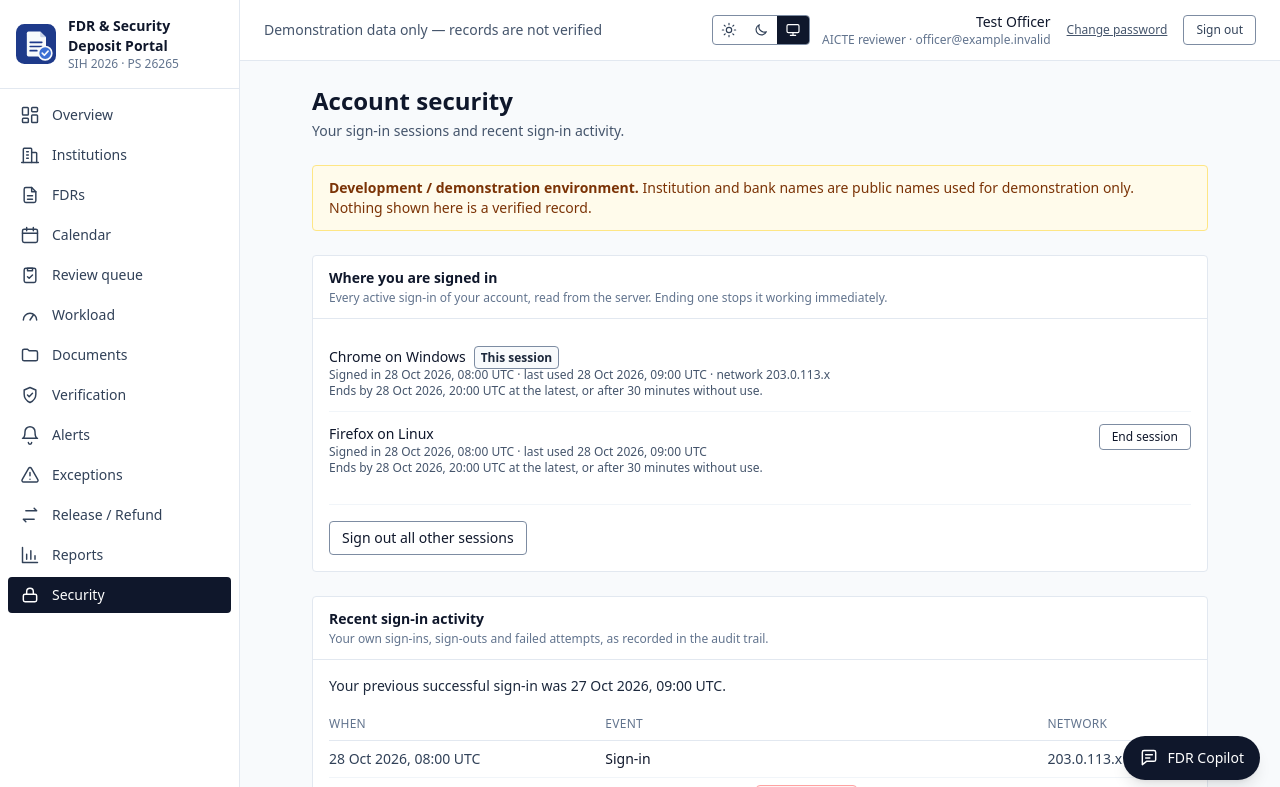
Test: account security page › ends one session only after a second, explicit confirmation, then refreshes
The image size is (1280, 787).
Click the button with aria-label "End the Firefox on Linux session" at point(1145, 437), box x1=1099 y1=424 x2=1191 y2=450
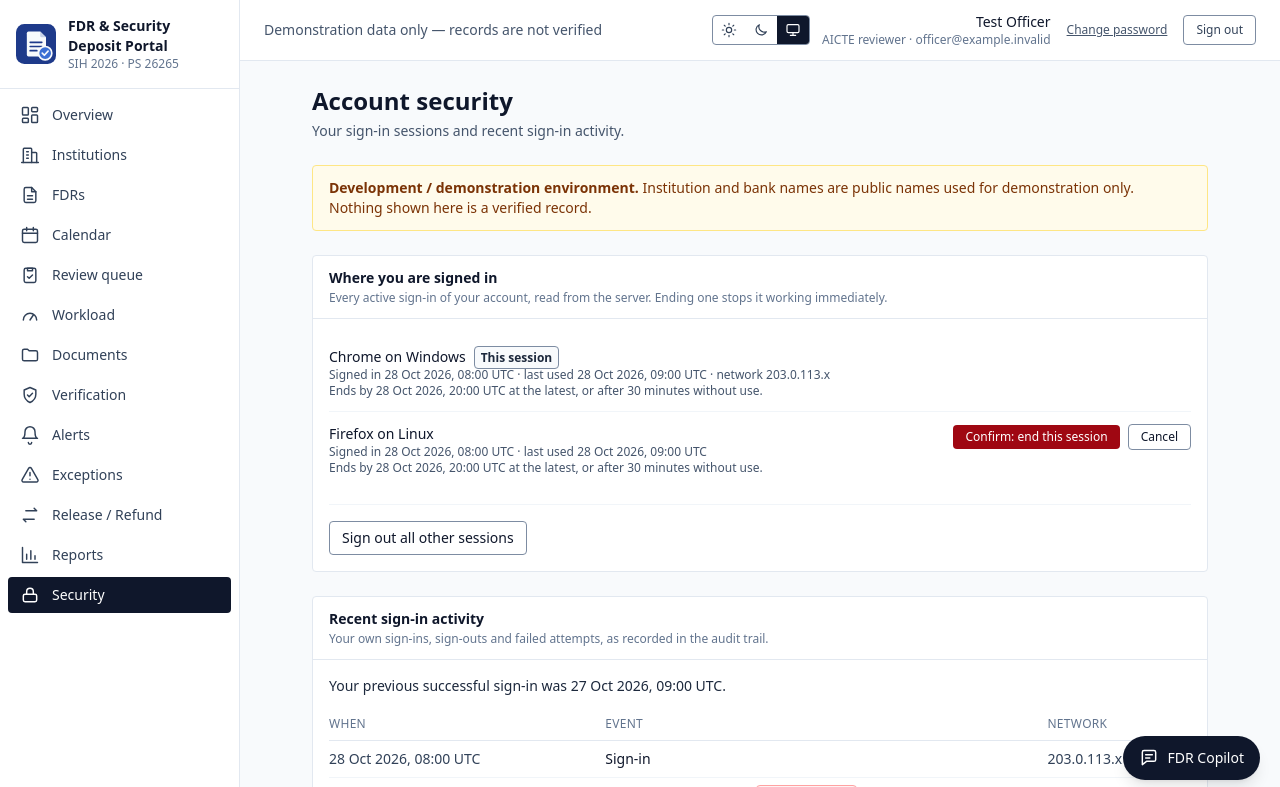
Click the button "Confirm: end this session" at point(1037, 437), box x1=954 y1=425 x2=1120 y2=449
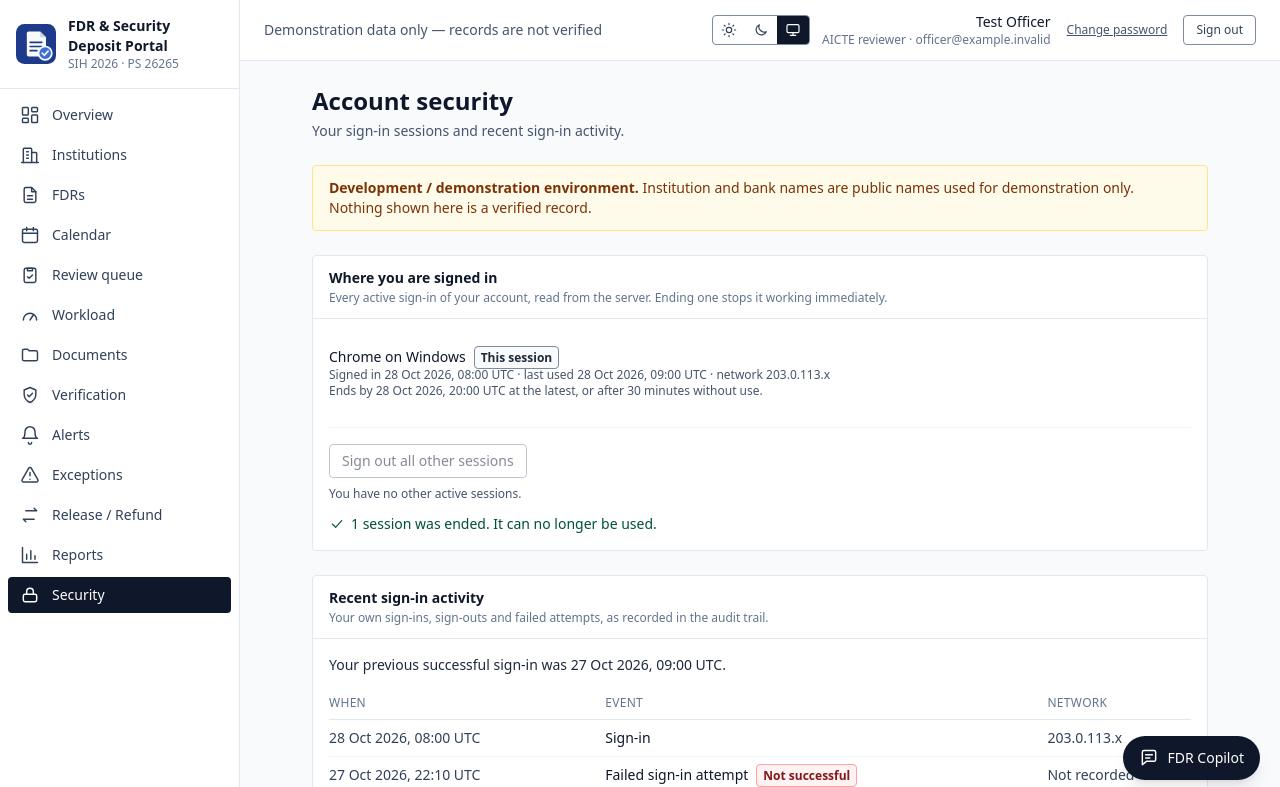
Expected: the text "1 session was ended. It can no longer be used." is shown, x1=329 y1=514 x2=657 y2=533
Expected: the text "Firefox on Linux" is gone
